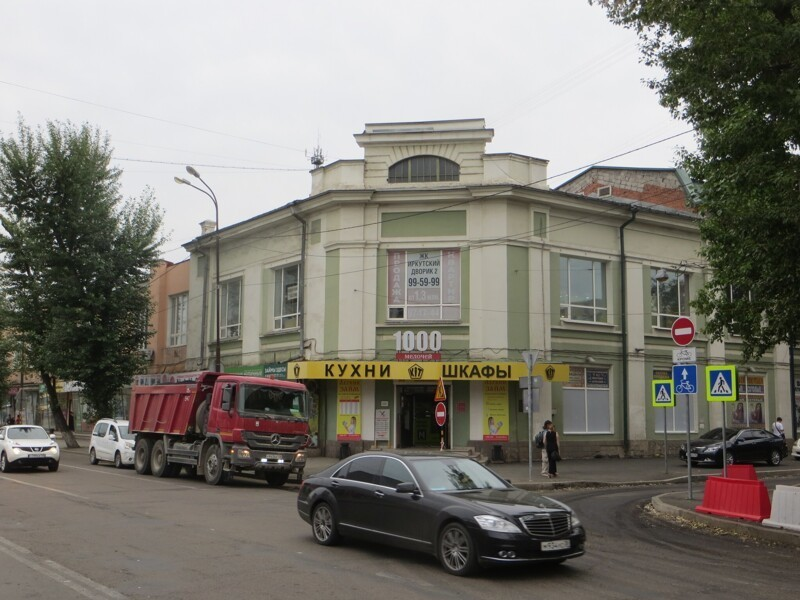sign: (704, 363, 738, 403), (671, 364, 697, 395), (650, 378, 675, 409), (671, 316, 695, 348), (433, 402, 448, 430), (432, 376, 448, 402), (672, 348, 696, 363)
